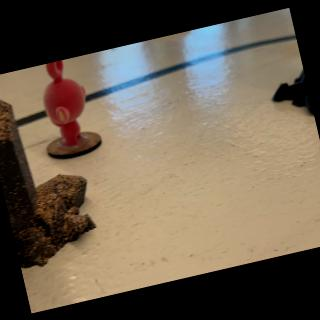teletubby: (43, 60, 85, 147)
